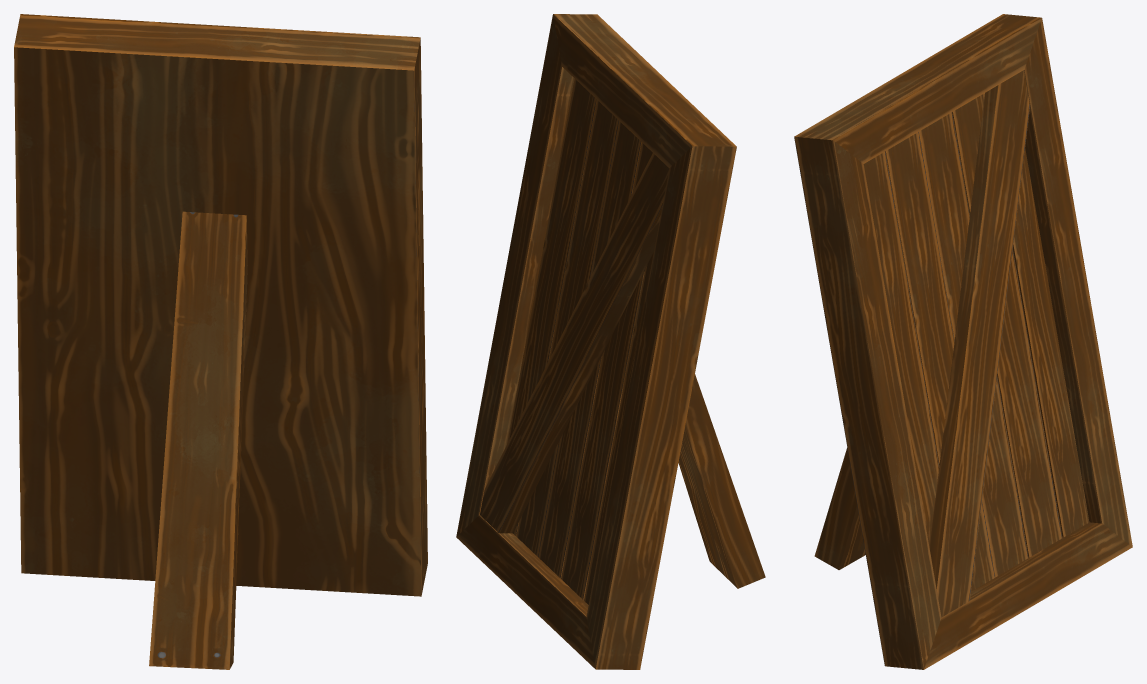
The picture shows the model from 3 angles, left to right: view 1: azimuth 30°, elevation 25°; view 2: azimuth 150°, elevation 25°; view 3: azimuth 270°, elevation 25°; orthographic projection. The views are drawn at different scales.
Visible parts, largest first — view 1: Cube.806; view 2: Cube.806; view 3: Cube.806.
Part boxes in pixels (x1,y1,x2,y2): Cube.806: (14,14,427,669); Cube.806: (456,14,765,669); Cube.806: (794,14,1132,669).
Size of the model in its own units: 222 by 340 by 202.
Materials: 1 (1 with a texture image).
